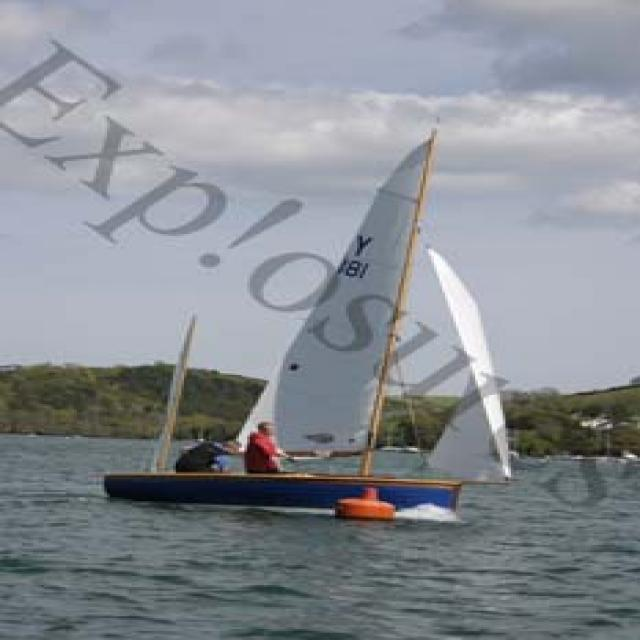Ship: (99, 113, 523, 516)
